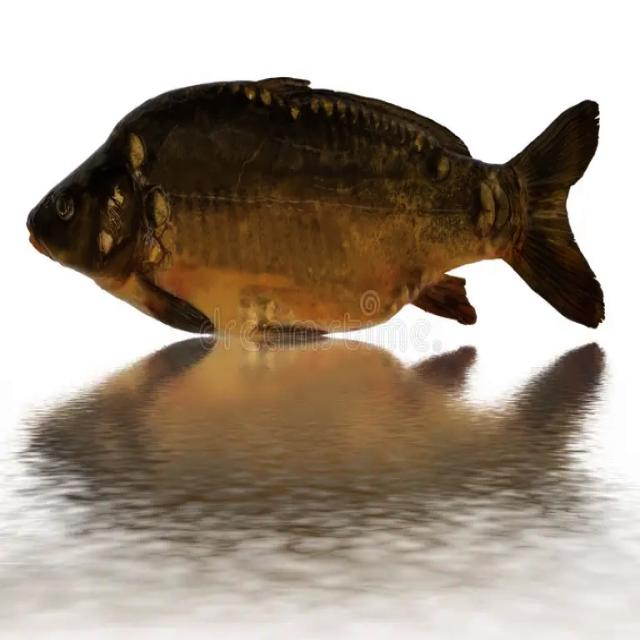Common carp: (27, 78, 604, 339)
